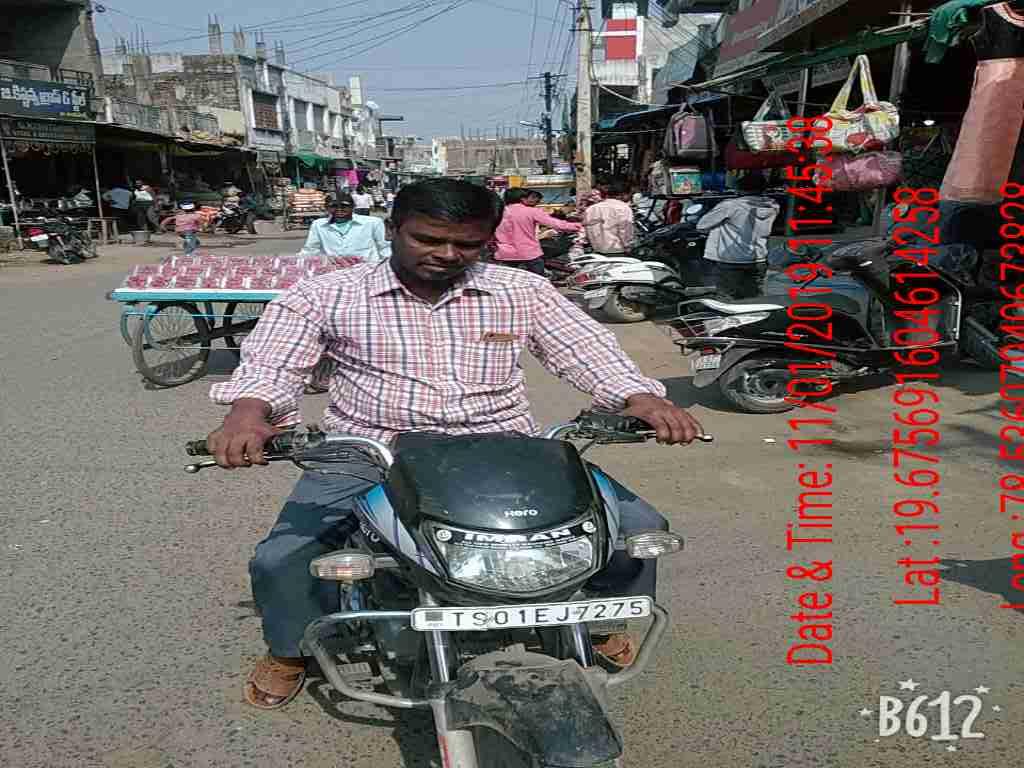plate: (402, 590, 657, 635)
